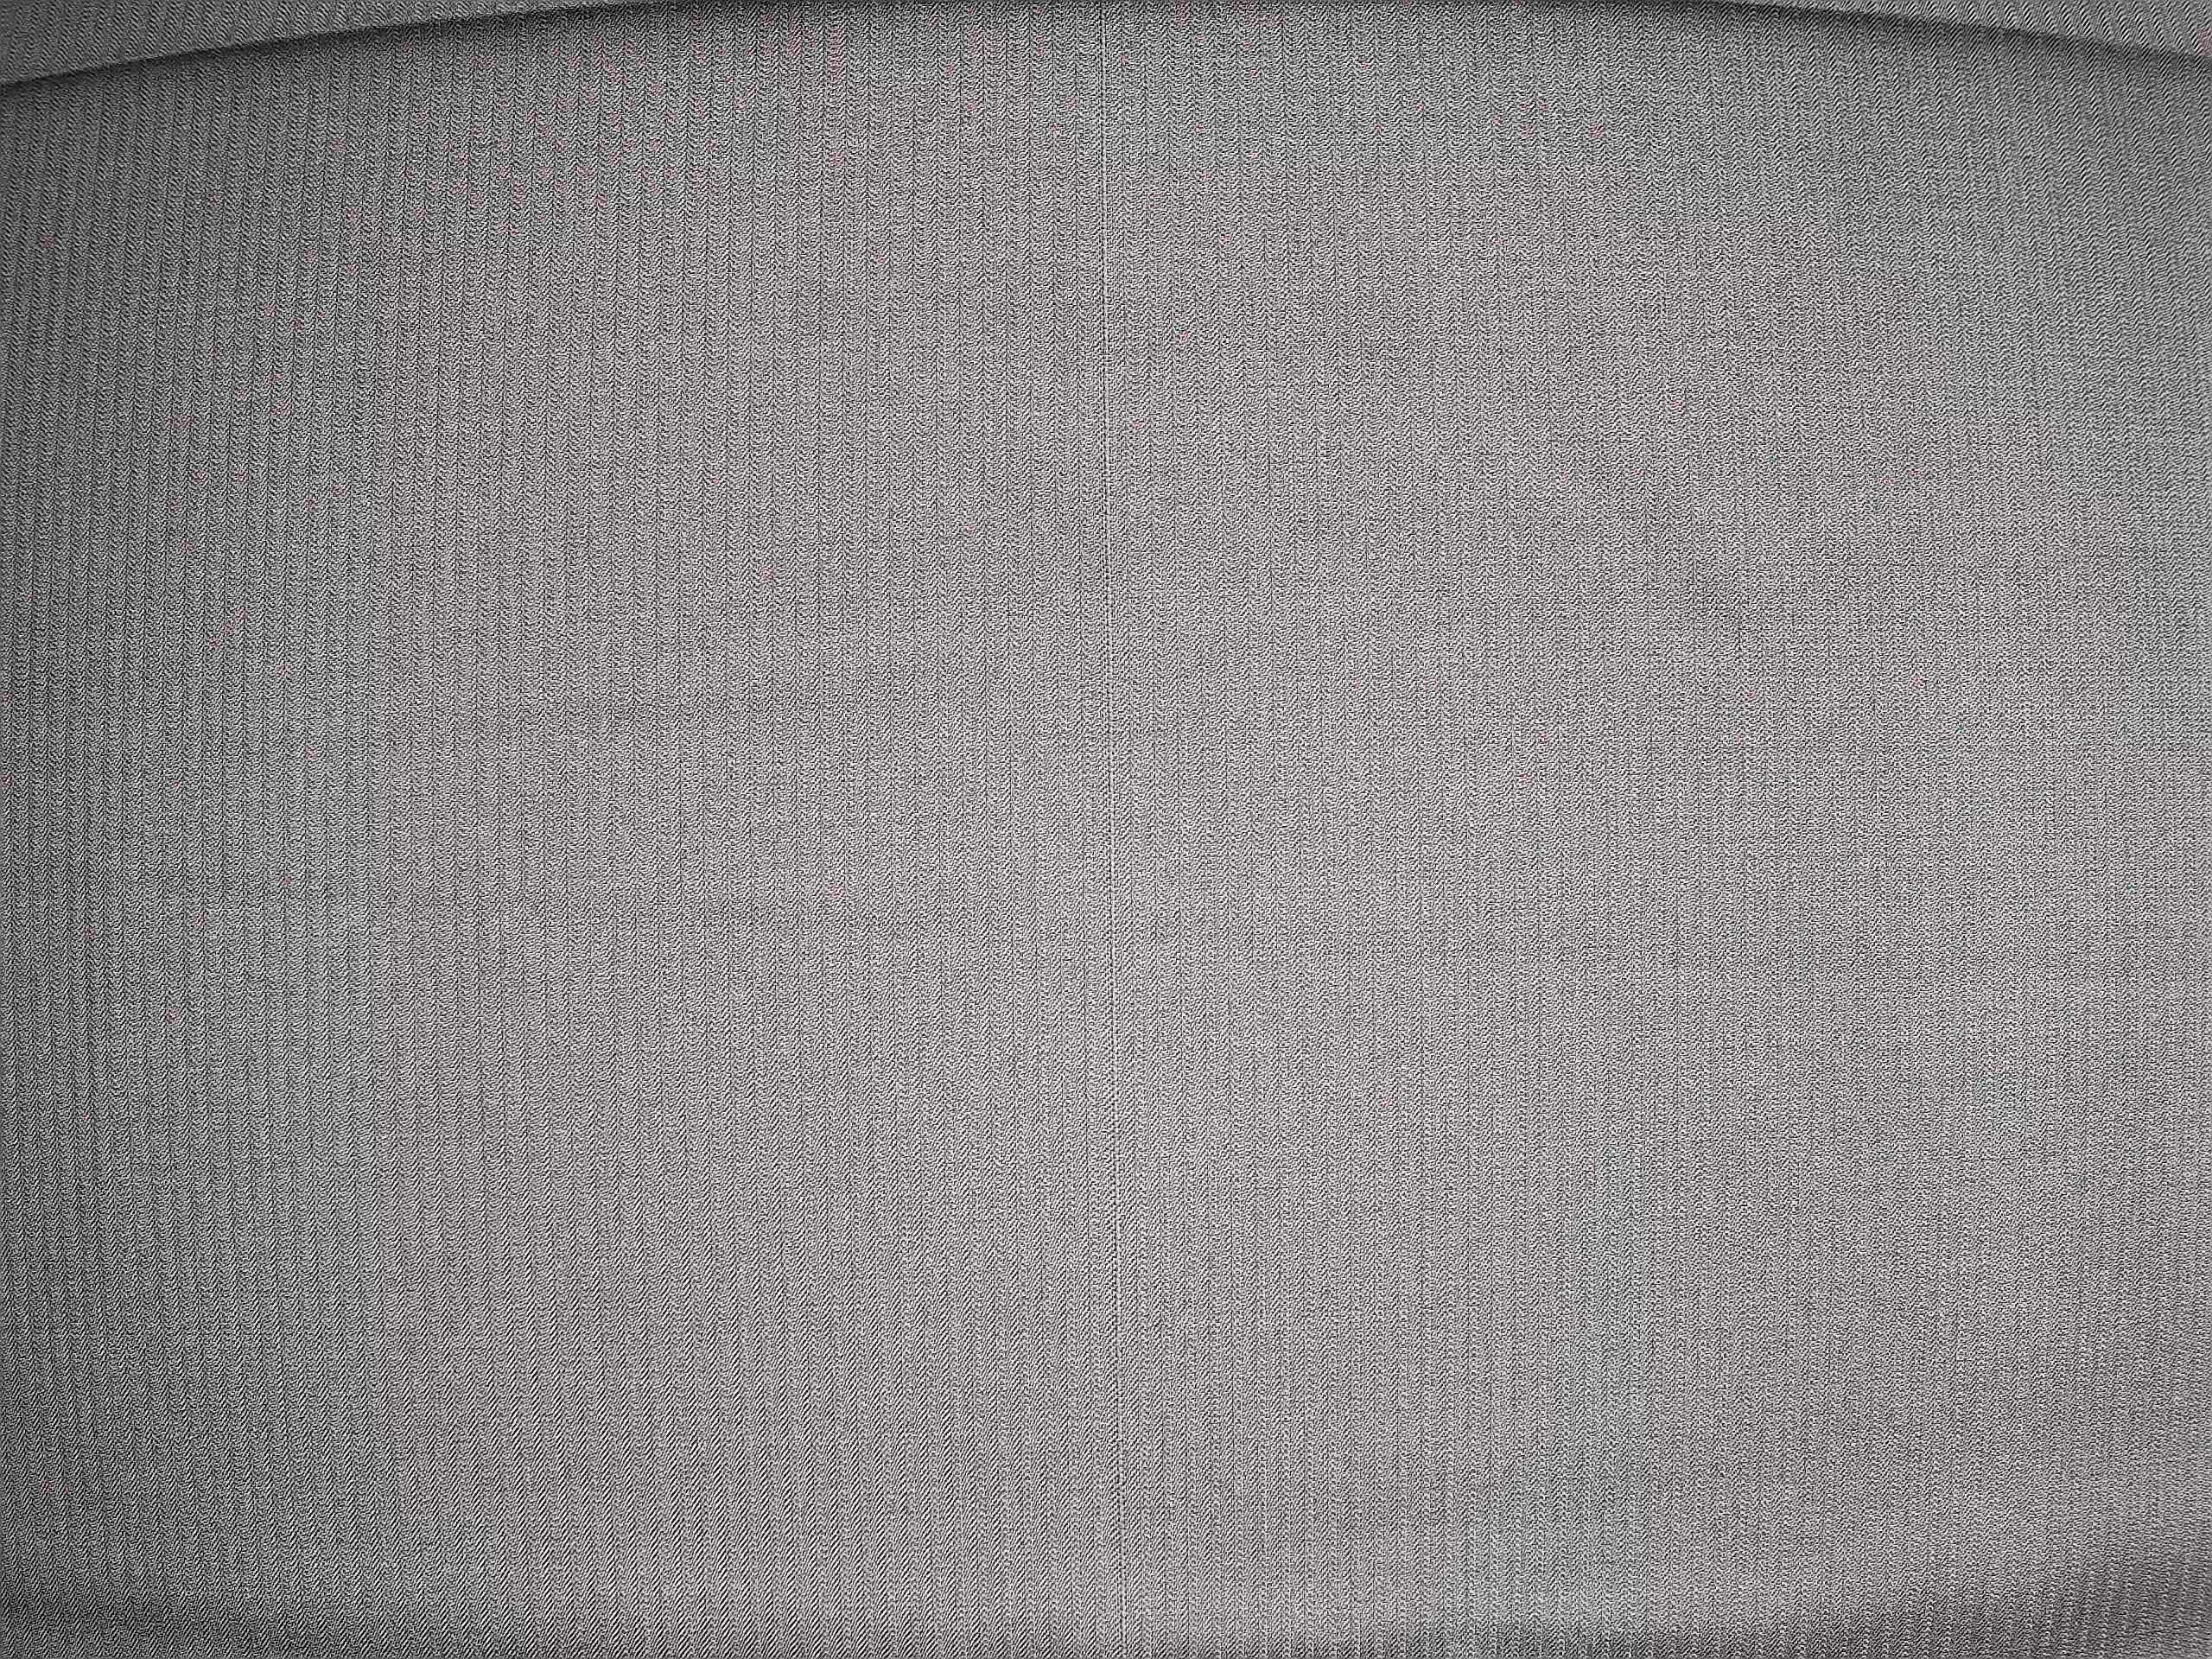lacking-warp: (1076, 16, 1155, 1617)
